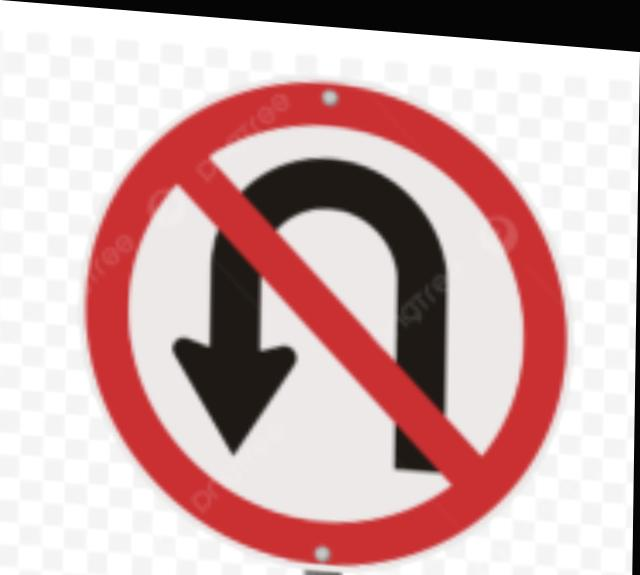not_u_turn_left: (82, 47, 581, 575)
